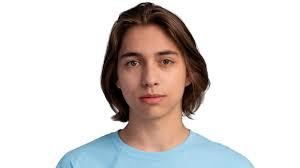person: (95, 1, 210, 127)
